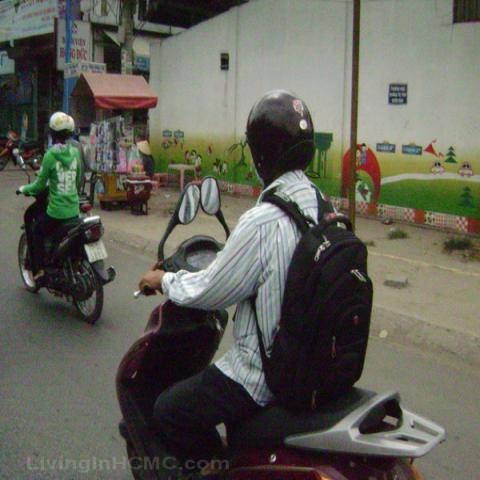motorcycle: (113, 176, 442, 474), (17, 219, 109, 327)
